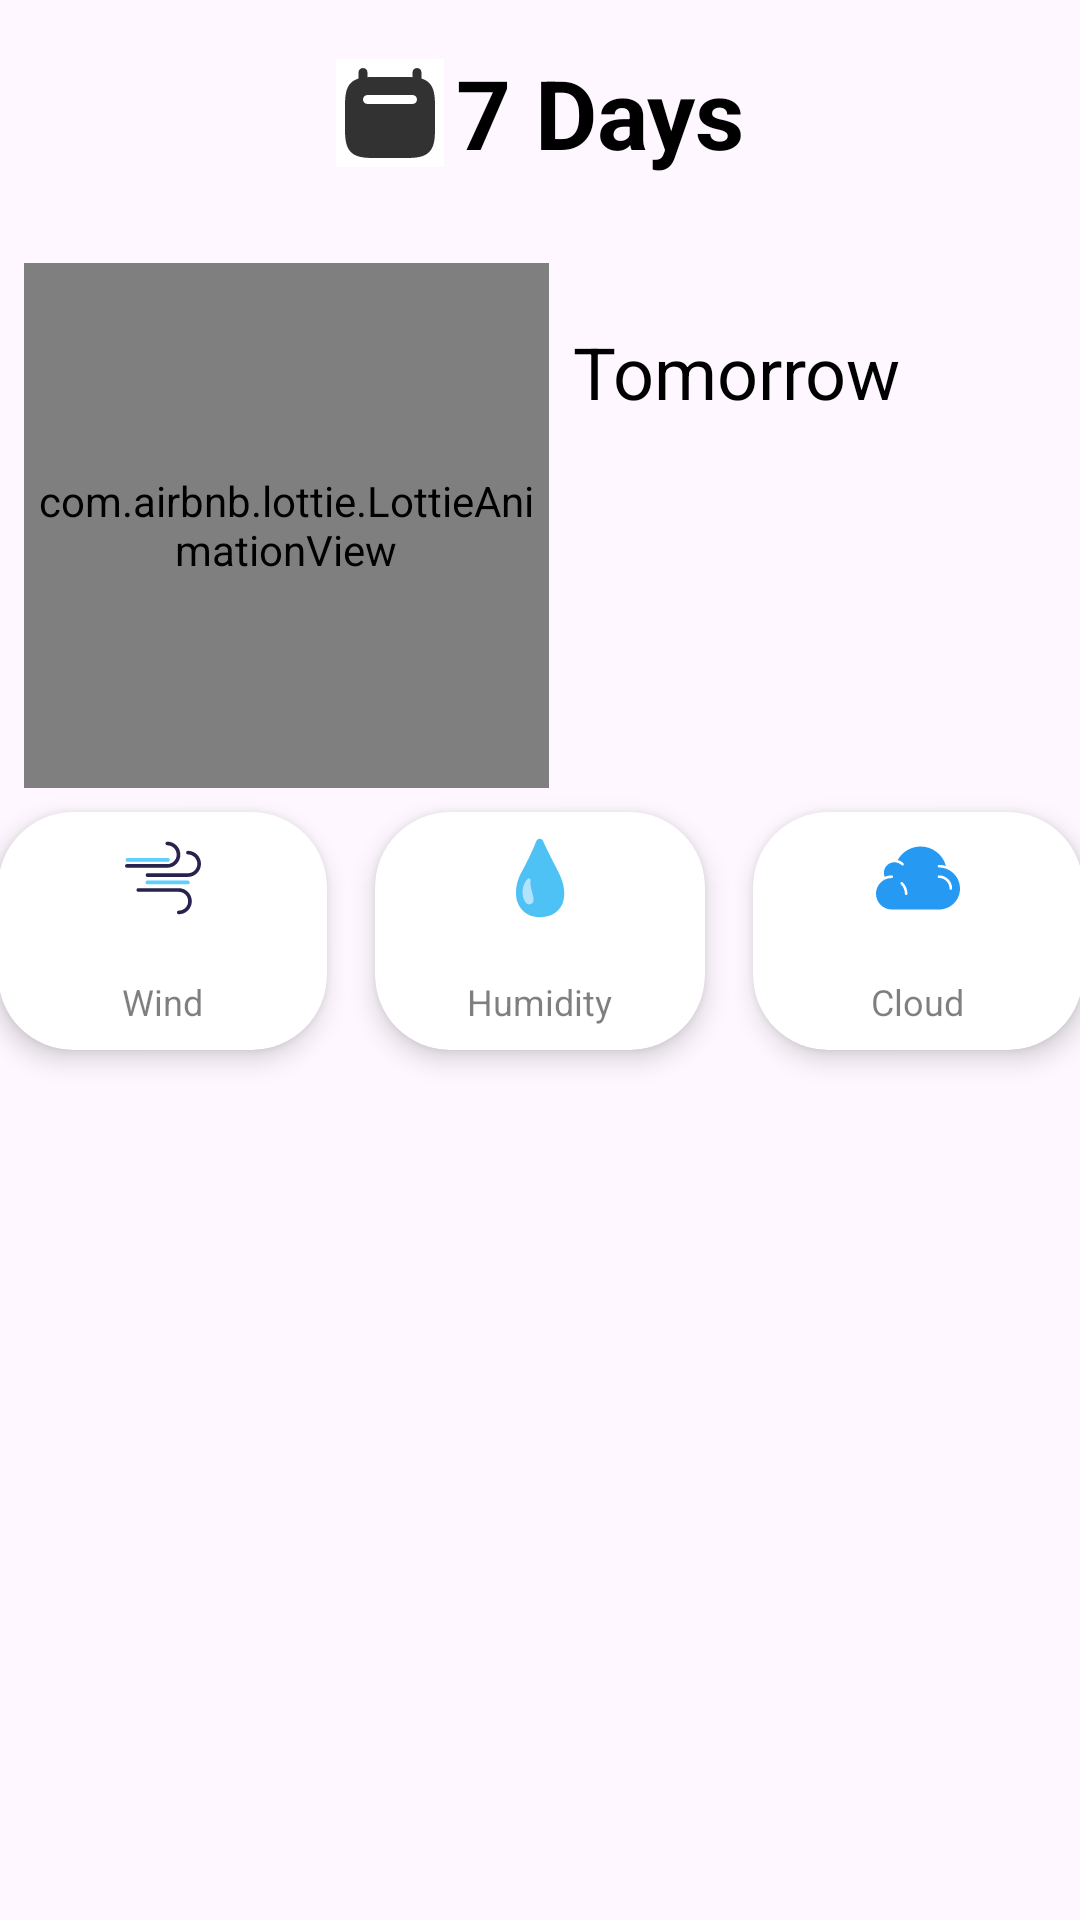

Point at icon controls on the screen. Image size 1080 × 1920, points as point (x, y).
calendar: point (390, 113)
droplet: point (540, 878)
